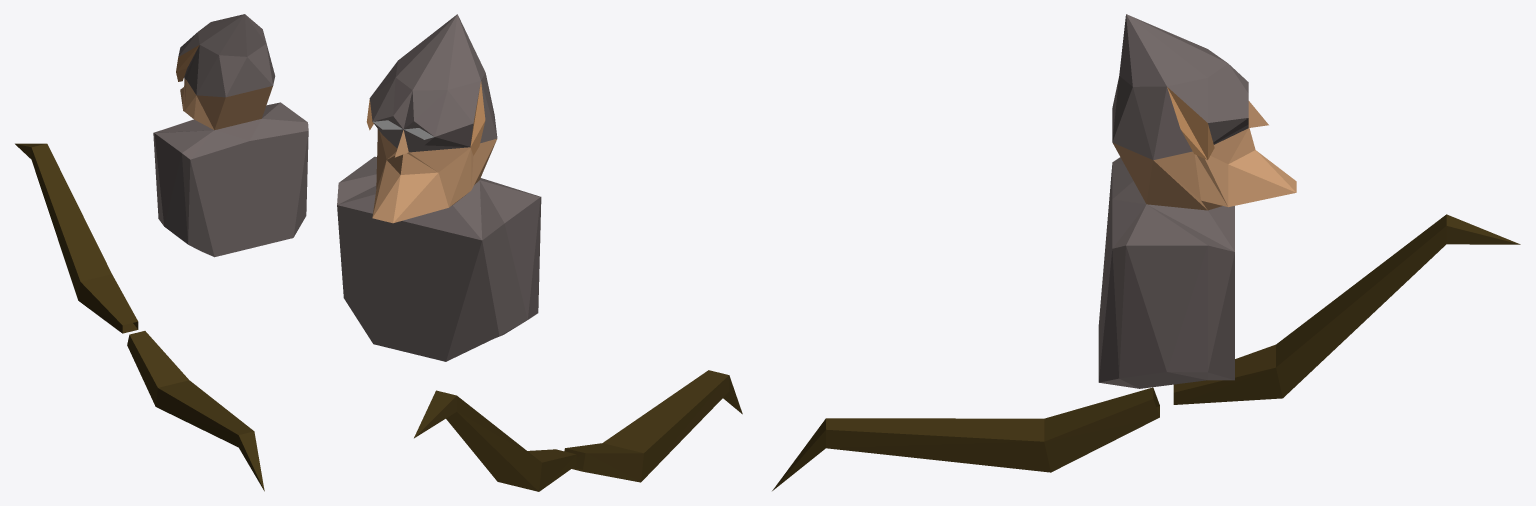
The model's file is npc_world_gnome_troop_2_1.obj.
3 views of the same model, side by side, from view 1: azimuth 30°, elevation 25°; view 2: azimuth 150°, elevation 25°; view 3: azimuth 270°, elevation 25° (orthographic). The views are drawn at different scales.
Bounding box in the file's own units: 0.3594 × 0.6953 × 0.8594.
